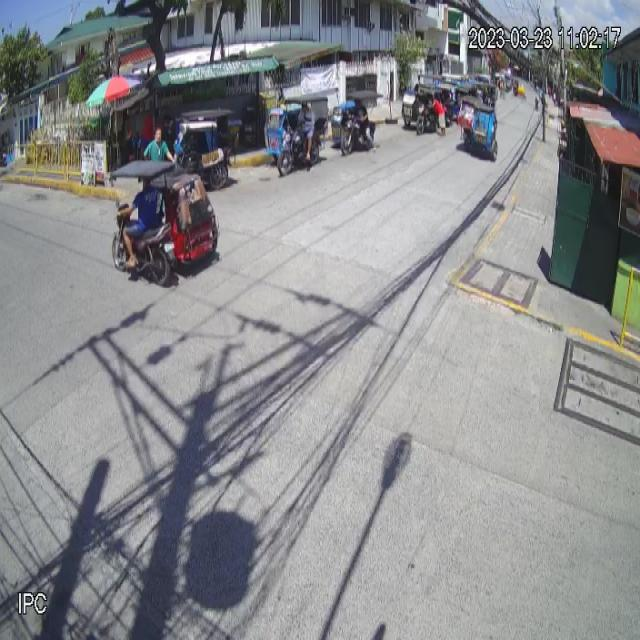Tricycle: (109, 158, 220, 286)
